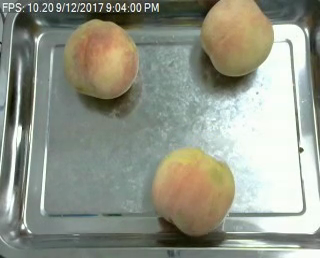Peach: (151, 146, 235, 236), (64, 18, 139, 99), (197, 0, 273, 78)
